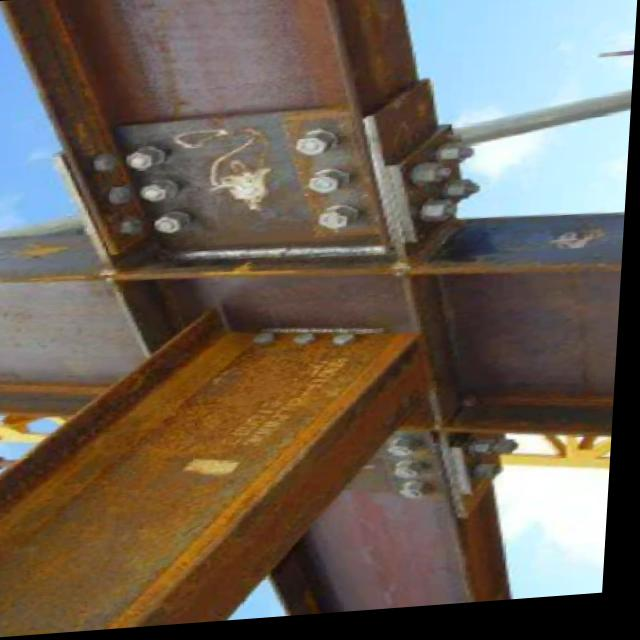Regular bolt: (151, 210, 198, 247), (307, 171, 355, 205), (292, 132, 343, 163), (322, 206, 368, 240), (127, 146, 168, 181), (388, 444, 432, 474), (395, 465, 436, 495), (147, 180, 182, 210), (405, 486, 440, 509)
